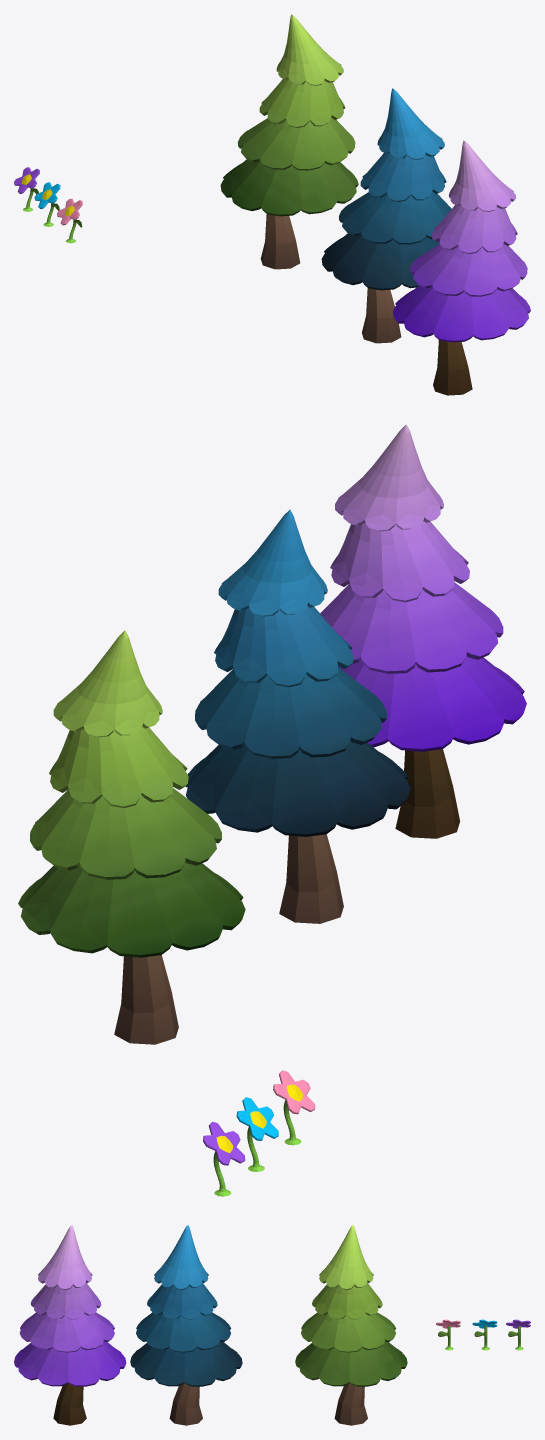
Rendered from plantas.fbx.
The picture shows the model from 3 angles, top to bottom: view 1: azimuth 30°, elevation 25°; view 2: azimuth 150°, elevation 25°; view 3: azimuth 270°, elevation 25°; orthographic projection. The views are drawn at different scales.
Visible parts, largest first — view 1: arbol.001, arbol.002, arbol, floar azu, floar nora, floar; view 2: arbol.001, arbol, arbol.002, floar azu, floar, floar nora; view 3: arbol.002, arbol, arbol.001, floar azu, floar, floar nora.
Part boxes in pixels (x1,y1,x2,y2): arbol.001: (220, 14, 358, 269); arbol.002: (393, 140, 530, 395); arbol: (321, 88, 451, 343); floar azu: (34, 182, 60, 226); floar nora: (14, 167, 39, 211); floar: (57, 198, 82, 243); arbol.001: (18, 630, 245, 1044); arbol: (185, 509, 410, 923); arbol.002: (320, 424, 526, 838); floar azu: (236, 1097, 278, 1171); floar: (273, 1070, 315, 1145); floar nora: (203, 1122, 245, 1196); arbol.002: (14, 1225, 126, 1425); arbol: (130, 1225, 242, 1425); arbol.001: (295, 1225, 407, 1425); floar azu: (472, 1319, 497, 1350); floar: (436, 1319, 460, 1350); floar nora: (506, 1319, 530, 1350).
Size of the model in its own units: 1734 by 1755 by 4151.
Materials: 4 (4 with a texture image).
